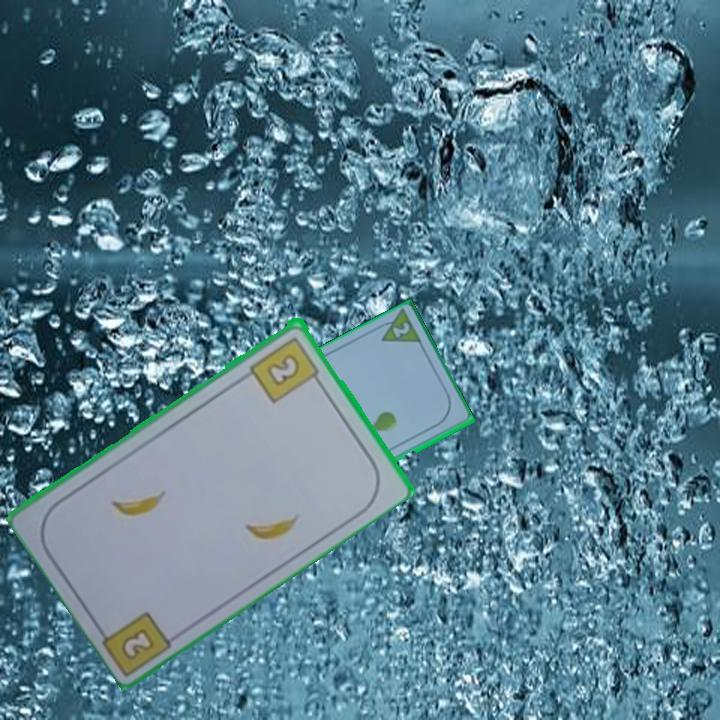2b: (246, 332, 325, 406), (117, 623, 158, 666)
2p: (389, 319, 413, 341)
